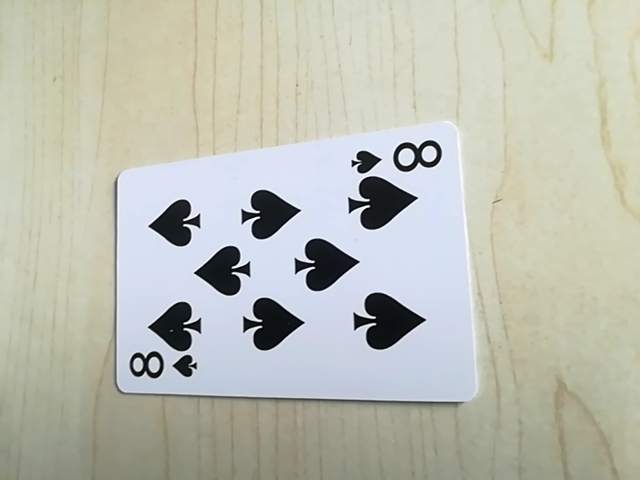ht 8: (349, 133, 449, 177), (122, 347, 200, 389)
